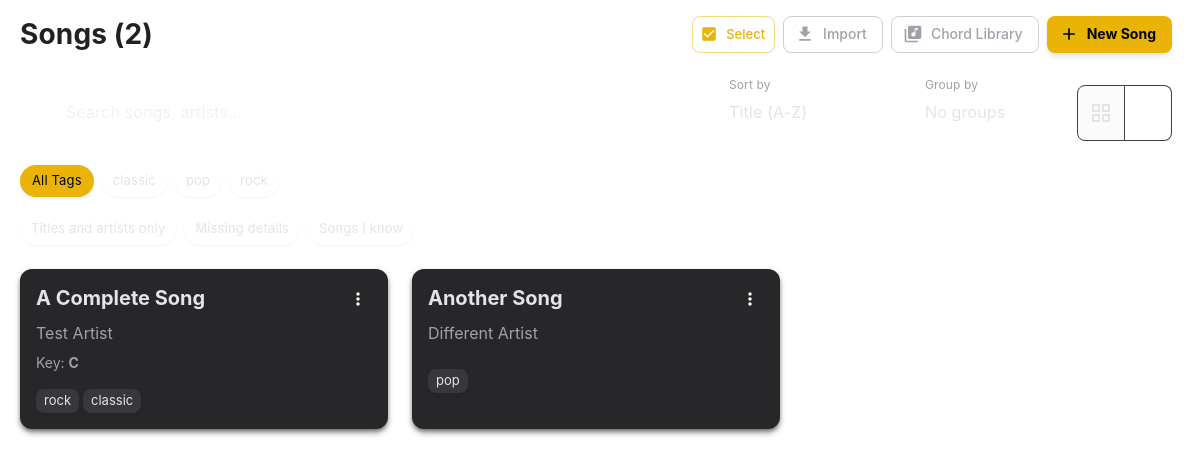
Test case: SongList › finds the songs whose details are missing
The width and height of the screenshot is (1190, 453).
Click the button "Missing details": [242, 228] box [184,212,300,244]
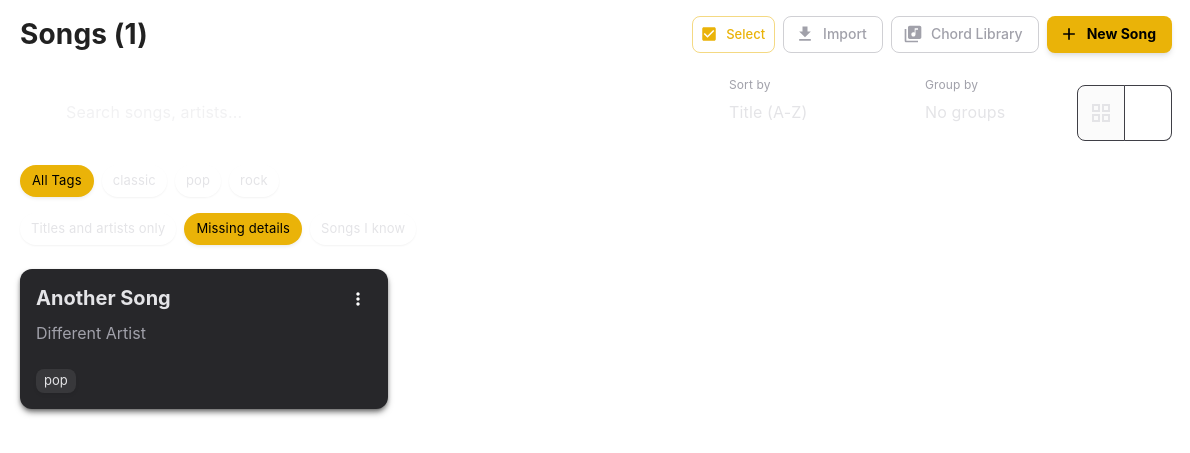
Expected: the heading "Another Song" is shown, [36,284,171,311]
Result: the button "A Complete Song" is gone
